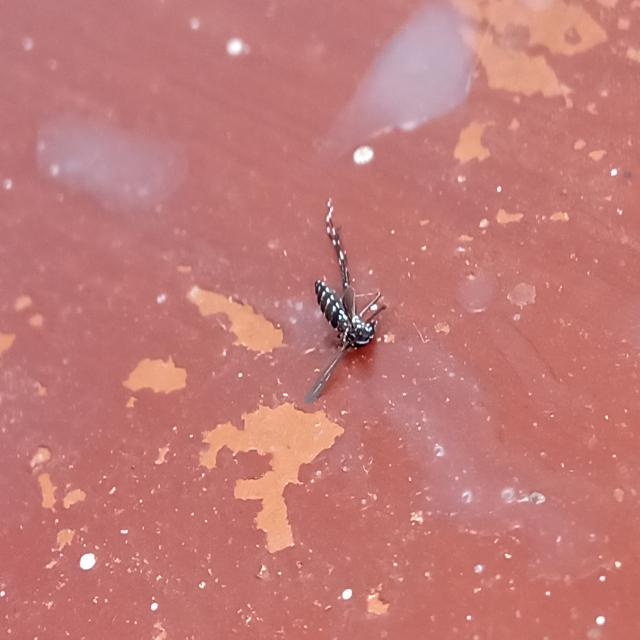albopictus: (304, 195, 386, 398)
